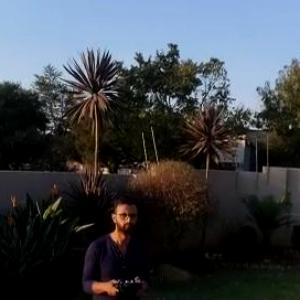follow: (79, 186, 156, 299)
